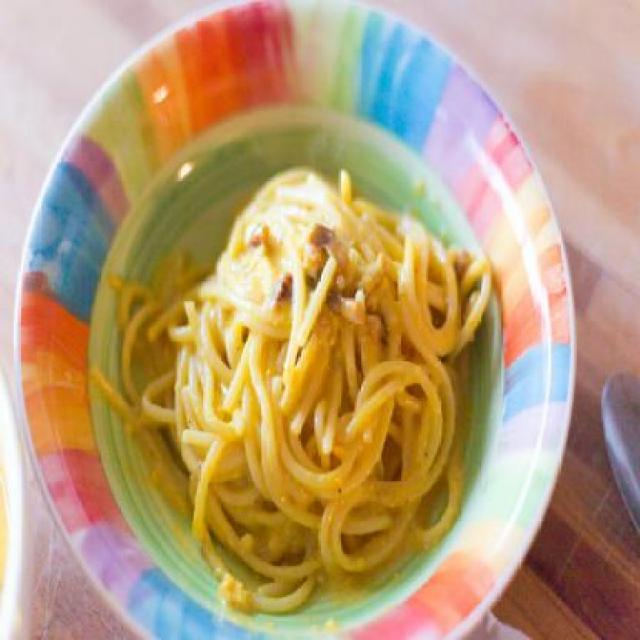Pasta with carbonara sauce: (133, 100, 519, 634)
